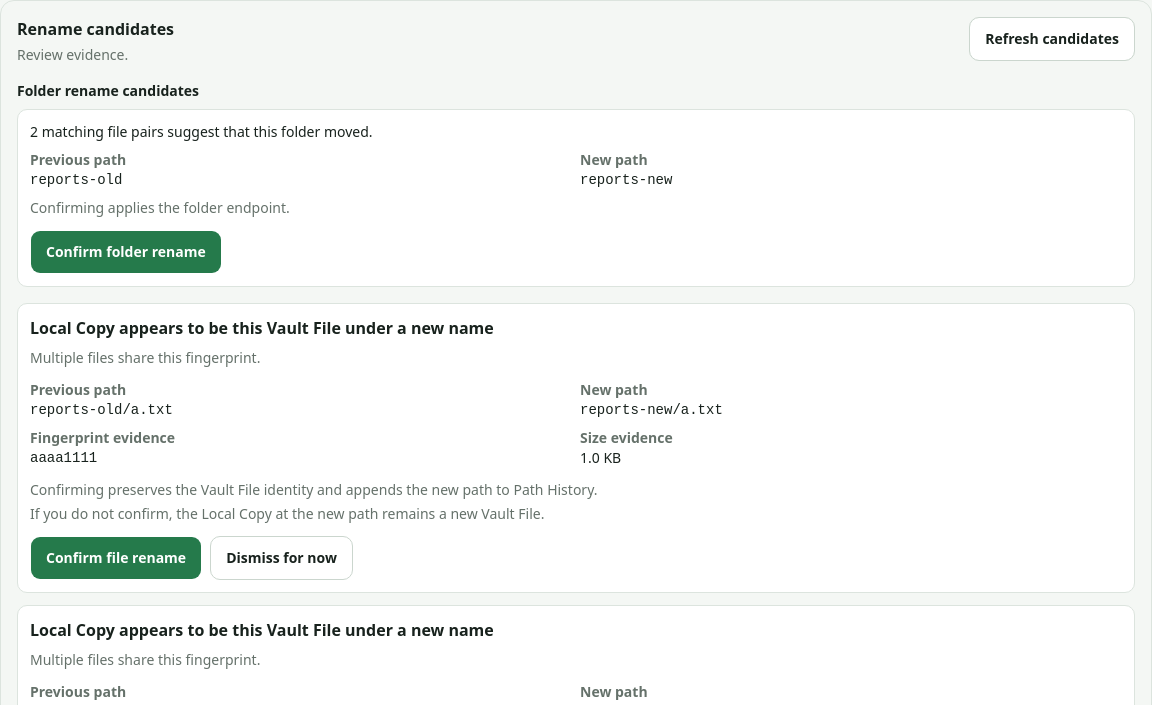
Test case: RenameCandidatesPanel › refetches after a partial-failure response because identity may already be committed
This screenshot has width=1152, height=705.
What coordinates should you click on to do the following:
click the button "Confirm file rename"
I would click on:
 (116, 558)
Its box is top-left (30, 536), bottom-right (202, 580).
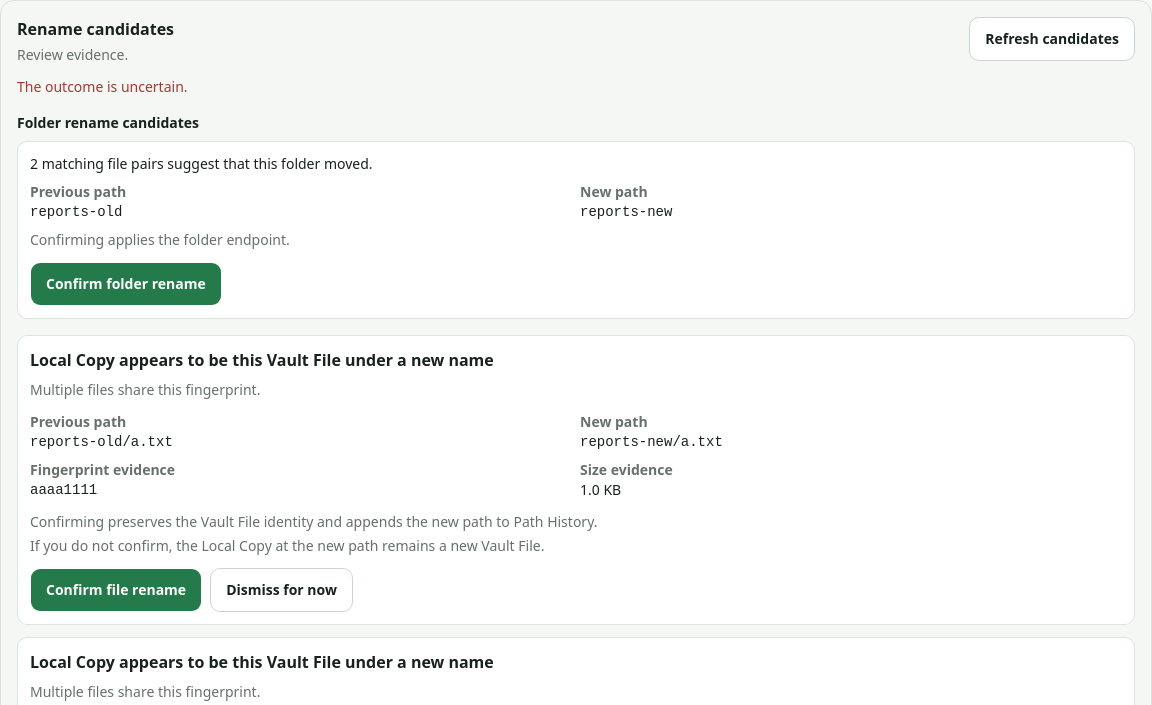
expect the text "Local Copy appears to be this Vault File under a new name" is shown 2 times: met, box top-left (30, 349), bottom-right (494, 371); top-left (30, 651), bottom-right (494, 673)
expect the message reads "The outcome is uncertain.": met, box top-left (17, 77), bottom-right (188, 96)
